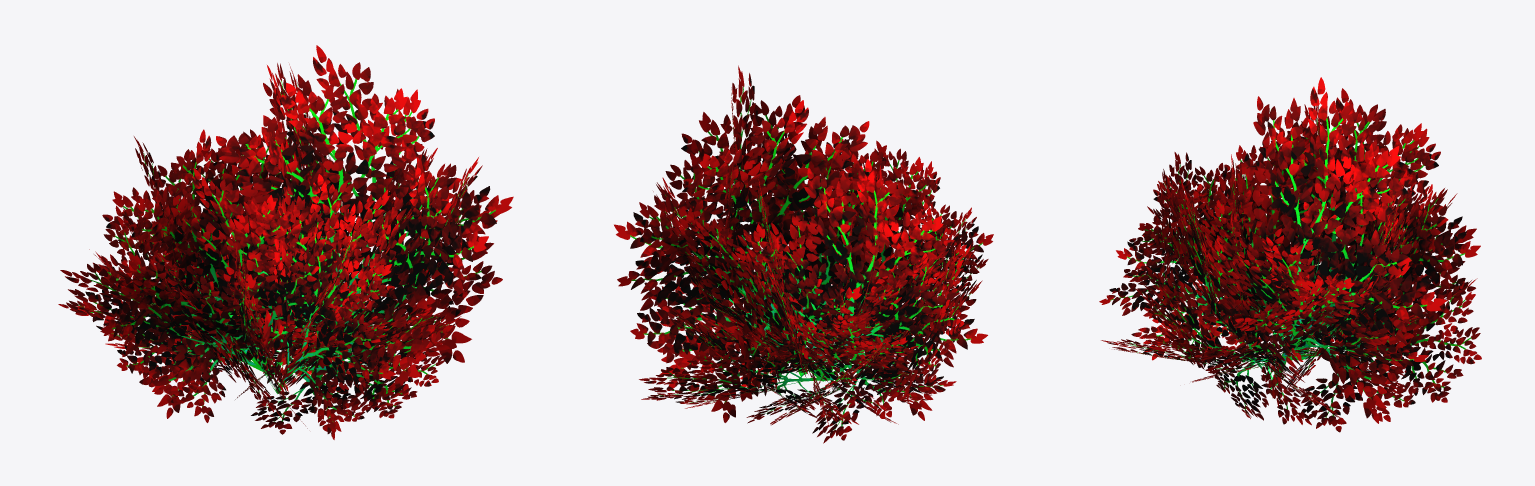
File: SM_Bush_A_01.fbx
The picture shows the model from 3 angles, left to right: view 1: azimuth 30°, elevation 25°; view 2: azimuth 150°, elevation 25°; view 3: azimuth 270°, elevation 25°; orthographic projection. The views are drawn at different scales.
Parts seen in each view (by area): view 1: SM_Bush_A_01_LOD0; view 2: SM_Bush_A_01_LOD0; view 3: SM_Bush_A_01_LOD0.
Part boxes in pixels (bbox=[...]): SM_Bush_A_01_LOD0: bbox=[58, 45, 513, 439]; SM_Bush_A_01_LOD0: bbox=[614, 65, 993, 443]; SM_Bush_A_01_LOD0: bbox=[1099, 77, 1481, 432].
Bounding box in the file's own units: 298 × 235 × 264.
